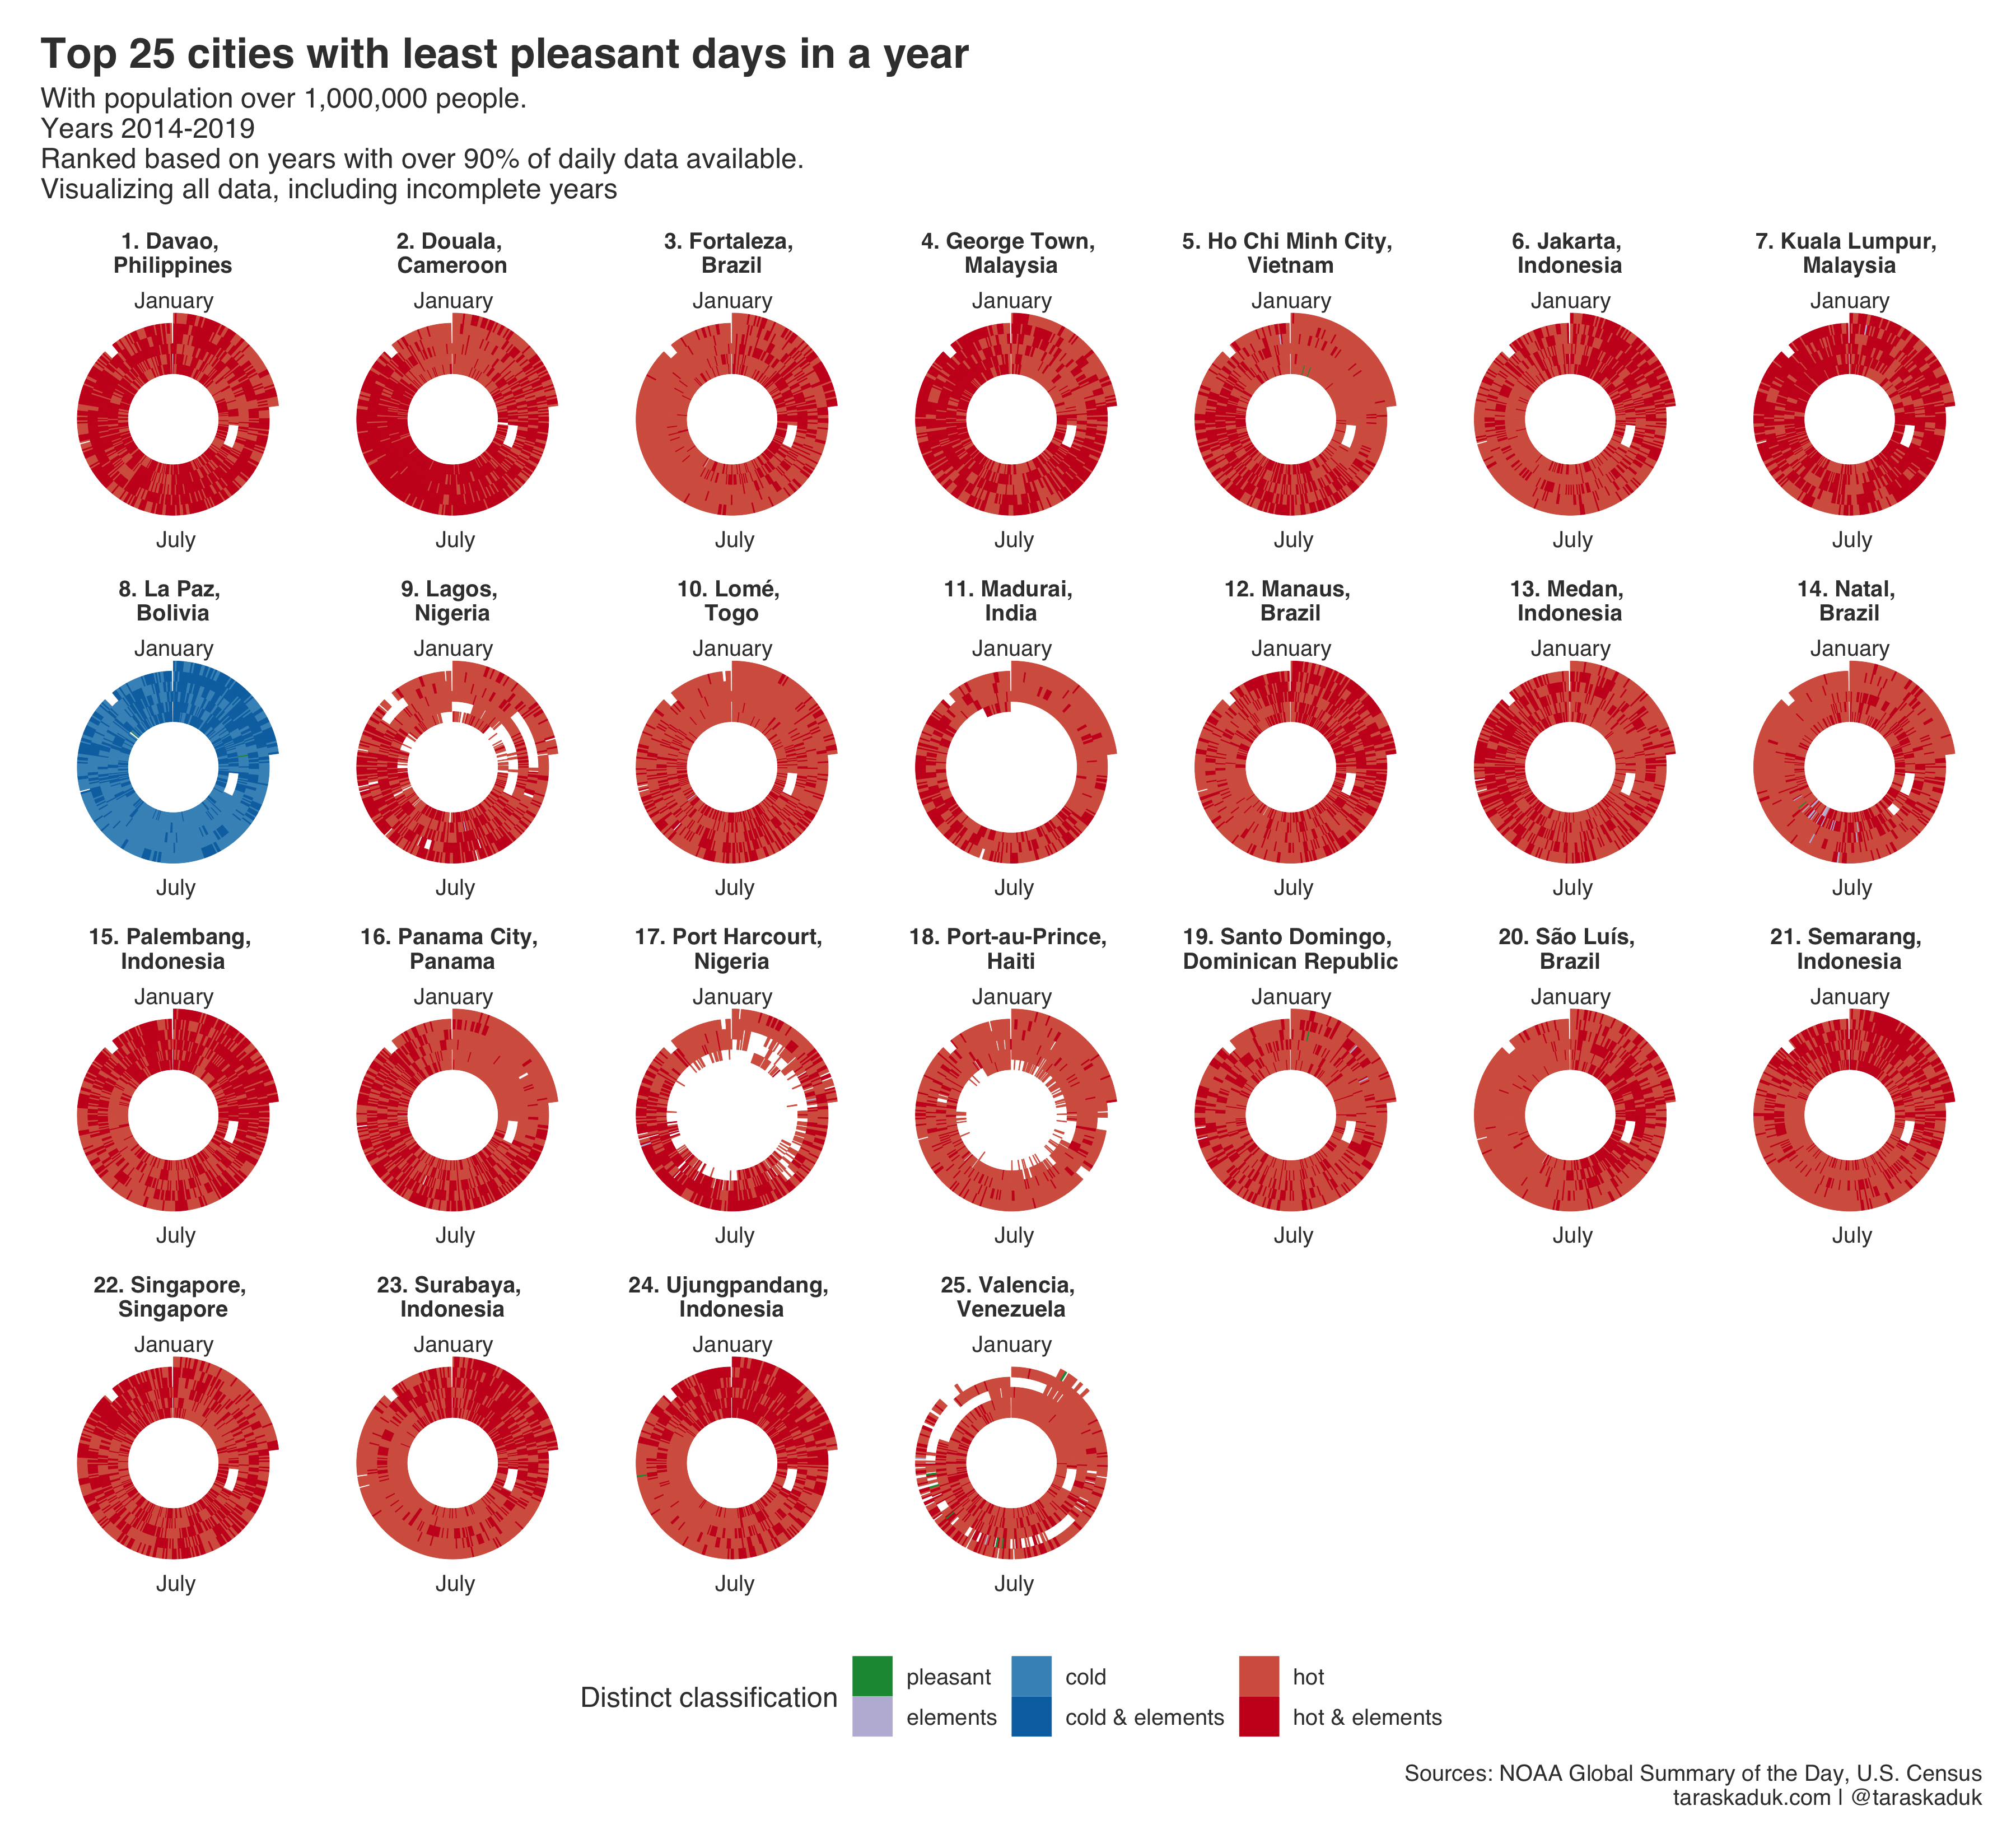

The dashboard page shown, as its layout file describes it:
{"tool":"tableau","page":{"name":"Radial Stack Bar Charts","canvas":[900,800],"ordinal":0},"visuals":[{"type":"worksheet","title":"radial stacked bar","mark":"Polygon","box":[0,0,796,800]},{"type":"legend","title":"radial stacked bar","param":"[federated.0d4brrl0id6ggj1ffol9q0xiccq4].[none:Calculation_4518799278402621453:n","box":[796,0,104,90]},{"type":"parameter","param":"[Parameters].[Parameter 4]","box":[796,90,104,52]},{"type":"parameter","param":"[Parameters].[Parameter 1]","box":[796,142,104,52]},{"type":"parameter","param":"[Parameters].[Parameter 2]","box":[796,194,104,52]},{"type":"parameter","param":"[Parameters].[Parameter 3]","box":[796,246,104,52]},{"type":"worksheet","title":"social","mark":"Shape","cols":["Platform"],"box":[840,770,60,30]}]}

Visuals, with their boxes on the page's 900x800 design canvas (x1, y1, x2, y2). These are canvas units, not pixel positions in the 2016x1848 screenshot, which may show the page scaled, cropped or inside an application window:
"radial stacked bar" worksheet (Polygon marks): [0,0,796,800]
"radial stacked bar" legend: [796,0,900,90]
parameter: [796,90,900,142]
parameter: [796,142,900,194]
parameter: [796,194,900,246]
parameter: [796,246,900,298]
"social" worksheet (Shape marks): [840,770,900,800]
